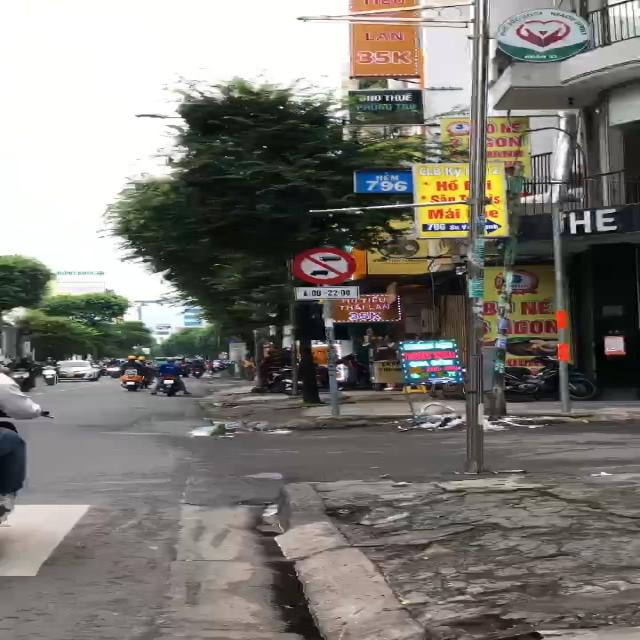Bien bao cam xe oto khach va xe oto tai: (280, 242, 362, 286)
